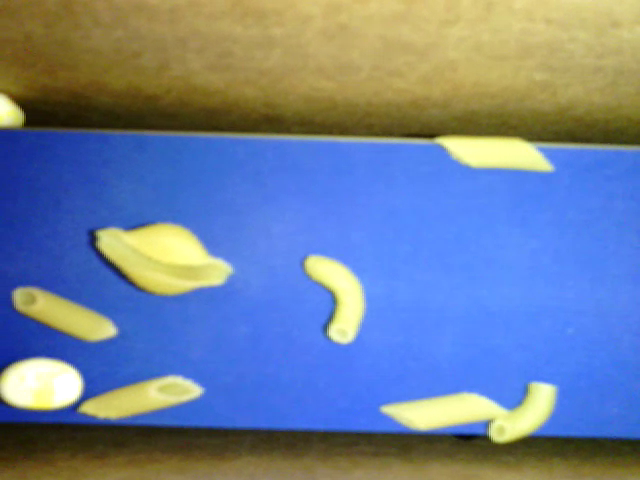elbow: (304, 253, 366, 344), (486, 380, 558, 444)
penne: (12, 285, 118, 344), (76, 375, 204, 417), (379, 390, 512, 430), (431, 136, 554, 171)
shell: (95, 221, 234, 298)
